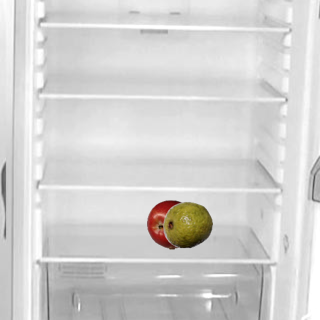Apple Braeburn: (146, 199, 196, 249)
Guava: (162, 199, 212, 249)
